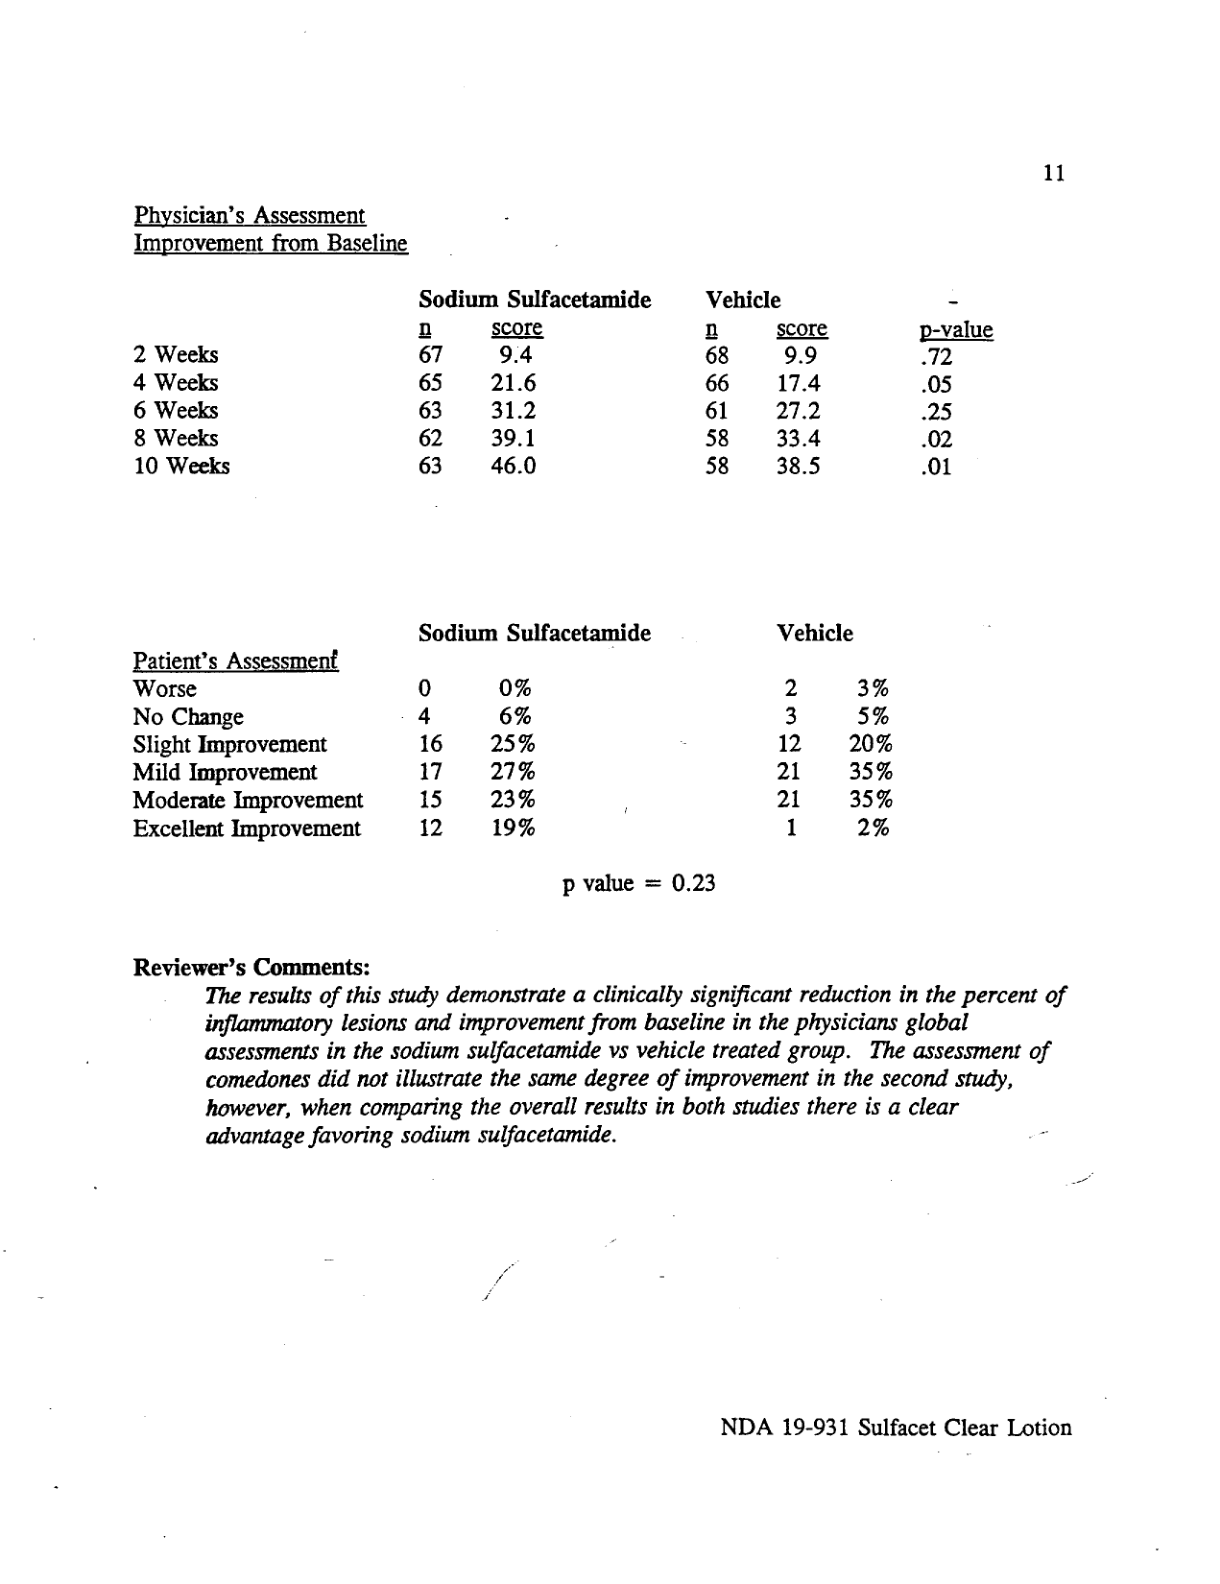nolines: (127, 619, 898, 839), (129, 290, 1001, 482)
